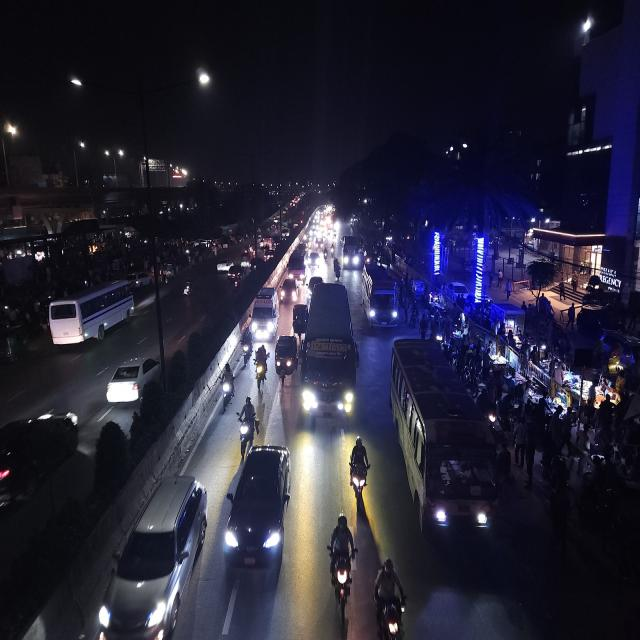bus: (386, 340, 500, 556), (303, 280, 359, 432), (45, 276, 137, 350), (360, 260, 399, 331), (341, 232, 361, 272), (287, 247, 307, 283)
car: (96, 470, 208, 639), (225, 442, 292, 588), (0, 404, 80, 521), (104, 352, 160, 410), (249, 285, 279, 342), (280, 276, 298, 306), (228, 265, 242, 291), (215, 256, 232, 274)
cng: (274, 331, 298, 387), (292, 300, 308, 348)
motorcycle: (325, 510, 358, 621), (371, 554, 409, 640), (347, 433, 371, 509), (236, 394, 257, 455), (217, 359, 235, 412), (253, 341, 269, 389), (240, 326, 254, 366), (181, 277, 193, 302), (332, 256, 342, 284)
pedestrian: (512, 418, 529, 470), (408, 301, 418, 328)
